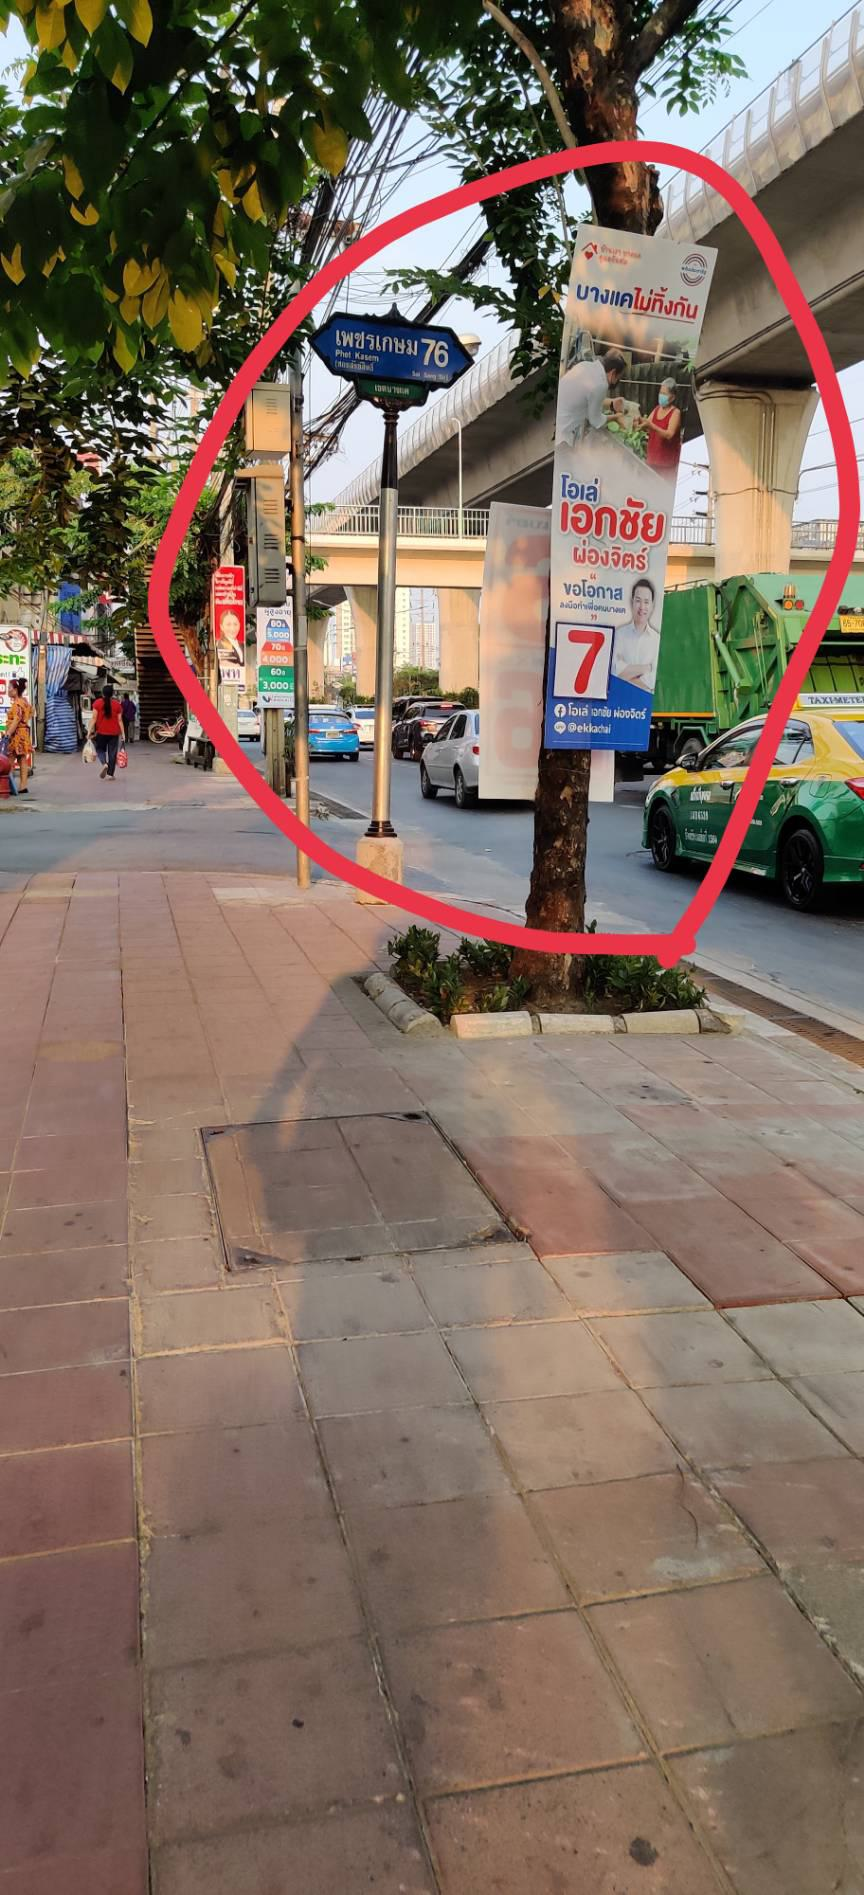Banner: (543, 214, 704, 771)
